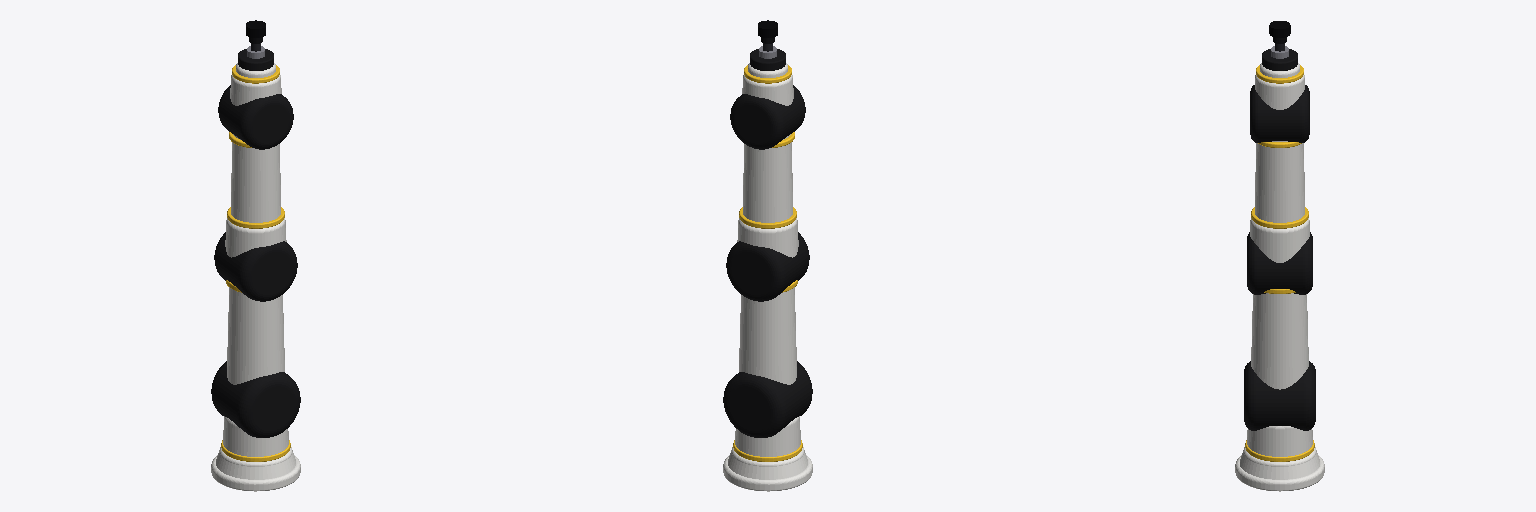
URDF robot description (omniarm6):
<?xml version='1.0' encoding='utf-8'?>
<robot name="omniarm6">

	<link name="link0">
		<inertial>
			<origin rpy="0 0 0" xyz="-0.00090289 -3.524e-05 0.0464554" />
			<mass value="2.002" />
			<inertia ixx="0.00382661" ixy="-1.191e-05" ixz="-3.816e-05" iyy="0.00386108" iyz="-1.6e-06" izz="0.00485705" />
		</inertial>
		<visual>
			<origin xyz="0 0 0" rpy="0 0 0" />
			<geometry>
				<mesh filename="meshes/link0_shell.obj" />
			</geometry>
			<material name="omnisim_shell">
				<color rgba="0.898 0.894 0.882 1.0" />
				<omnisim roughness="0.42" metalness="0.0" />
			</material>
		</visual>
		<visual>
			<origin xyz="0 0 0" rpy="0 0 0" />
			<geometry>
				<mesh filename="meshes/link0_accent.obj" />
			</geometry>
			<material name="omnisim_accent">
				<color rgba="0.965 0.780 0.204 1.0" />
				<omnisim roughness="0.35" metalness="0.2" />
			</material>
		</visual>
<collision>
			<origin xyz="-0.02 0 0.037" rpy="0 0 0" />
			<geometry>
				<cylinder radius="0.12" length="0.075" />
			</geometry>
		</collision>
	</link>

	<link name="link1">
		<inertial>
			<origin rpy="0 0 0" xyz="2.496e-05 0.0196556 0.169149" />
			<mass value="8.256" />
			<inertia ixx="0.0447417" ixy="-5.18e-06" ixz="3.29e-06" iyy="0.038383" iyz="-0.00805897" izz="0.0211142" />
		</inertial>
		<visual>
			<origin xyz="0 0 0" rpy="0 0 0" />
			<geometry>
				<mesh filename="meshes/link1_shell.obj" />
			</geometry>
			<material name="omnisim_shell">
				<color rgba="0.898 0.894 0.882 1.0" />
				<omnisim roughness="0.42" metalness="0.0" />
			</material>
		</visual>
		<visual>
			<origin xyz="0 0 0" rpy="0 0 0" />
			<geometry>
				<mesh filename="meshes/link1_joint.obj" />
			</geometry>
			<material name="omnisim_joint">
				<color rgba="0.129 0.129 0.137 1.0" />
				<omnisim roughness="0.28" metalness="0.85" />
			</material>
		</visual>
<collision>
			<origin xyz="0 0.01 0.17" rpy="0 0 0" />
			<geometry>
				<cylinder radius="0.10" length="0.23" />
			</geometry>
		</collision>
	</link>

	<link name="link2">
		<inertial>
			<origin rpy="0 0 0" xyz="-4.02745e-06 0.113023 0.158393" />
			<mass value="3.9668" />
			<inertia ixx="0.100126" ixy="1.52983e-07" ixz="4.2228e-06" iyy="0.0997161" iyz="0.00215017" izz="0.00646289" />
		</inertial>
		<visual>
			<origin xyz="0 0 0" rpy="0 0 0" />
			<geometry>
				<mesh filename="meshes/link2_shell.obj" />
			</geometry>
			<material name="omnisim_shell">
				<color rgba="0.898 0.894 0.882 1.0" />
				<omnisim roughness="0.42" metalness="0.0" />
			</material>
		</visual>
		<visual>
			<origin xyz="0 0 0" rpy="0 0 0" />
			<geometry>
				<mesh filename="meshes/link2_accent.obj" />
			</geometry>
			<material name="omnisim_accent">
				<color rgba="0.965 0.780 0.204 1.0" />
				<omnisim roughness="0.35" metalness="0.2" />
			</material>
		</visual>
		<visual>
			<origin xyz="0 0 0" rpy="0 0 0" />
			<geometry>
				<mesh filename="meshes/link2_joint.obj" />
			</geometry>
			<material name="omnisim_joint">
				<color rgba="0.129 0.129 0.137 1.0" />
				<omnisim roughness="0.28" metalness="0.85" />
			</material>
		</visual>
<collision>
			<origin xyz="0 0.13 0.185" rpy="0 0 0" />
			<geometry>
				<cylinder radius="0.10" length="0.49" />
			</geometry>
		</collision>
	</link>

	<link name="link3">
		<inertial>
			<origin rpy="0 -0 0" xyz="-3.51946e-05 0.0177216 0.04073" />
			<mass value="5.26105" />
			<inertia ixx="0.0206029" ixy="1.61027e-05" ixz="2.308e-06" iyy="0.016636" iyz="0.00374158" izz="0.010099" />
		</inertial>
		<visual>
			<origin xyz="0 0 0" rpy="0 0 0" />
			<geometry>
				<mesh filename="meshes/link3_shell.obj" />
			</geometry>
			<material name="omnisim_shell">
				<color rgba="0.898 0.894 0.882 1.0" />
				<omnisim roughness="0.42" metalness="0.0" />
			</material>
		</visual>
		<visual>
			<origin xyz="0 0 0" rpy="0 0 0" />
			<geometry>
				<mesh filename="meshes/link3_accent.obj" />
			</geometry>
			<material name="omnisim_accent">
				<color rgba="0.965 0.780 0.204 1.0" />
				<omnisim roughness="0.35" metalness="0.2" />
			</material>
		</visual>
<collision>
			<origin xyz="0 0 0.04" rpy="0 0 0" />
			<geometry>
				<cylinder radius="0.10" length="0.20" />
			</geometry>
		</collision>
	</link>

	<link name="link4">
		<inertial>
			<origin rpy="0 -0 0" xyz="8.08281e-05 0.044542 0.241911" />
			<mass value="2.271" />
			<inertia ixx="0.0342334" ixy="3.365e-06" ixz="-4.11571e-06" iyy="0.0311273" iyz="-0.00818683" izz="0.00522653" />
		</inertial>
		<visual>
			<origin xyz="0 0 0" rpy="0 0 0" />
			<geometry>
				<mesh filename="meshes/link4_shell.obj" />
			</geometry>
			<material name="omnisim_shell">
				<color rgba="0.898 0.894 0.882 1.0" />
				<omnisim roughness="0.42" metalness="0.0" />
			</material>
		</visual>
		<visual>
			<origin xyz="0 0 0" rpy="0 0 0" />
			<geometry>
				<mesh filename="meshes/link4_accent.obj" />
			</geometry>
			<material name="omnisim_accent">
				<color rgba="0.965 0.780 0.204 1.0" />
				<omnisim roughness="0.35" metalness="0.2" />
			</material>
		</visual>
		<visual>
			<origin xyz="0 0 0" rpy="0 0 0" />
			<geometry>
				<mesh filename="meshes/link4_joint.obj" />
			</geometry>
			<material name="omnisim_joint">
				<color rgba="0.129 0.129 0.137 1.0" />
				<omnisim roughness="0.28" metalness="0.85" />
			</material>
		</visual>
<collision>
			<origin xyz="0 0.035 0.29" rpy="0 0 0" />
			<geometry>
				<cylinder radius="0.10" length="0.35" />
			</geometry>
		</collision>
	</link>

	<link name="link5">
		<inertial>
			<origin rpy="0 -0 0" xyz="4.18387e-05 0.0147744 0.0354" />
			<mass value="2.54629" />
			<inertia ixx="0.00855547" ixy="4.97317e-06" ixz="6.07841e-06" iyy="0.00582159" iyz="0.00129227" izz="0.00358312" />
		</inertial>
		<visual>
			<origin xyz="0 0 0" rpy="0 0 0" />
			<geometry>
				<mesh filename="meshes/link5_shell.obj" />
			</geometry>
			<material name="omnisim_shell">
				<color rgba="0.898 0.894 0.882 1.0" />
				<omnisim roughness="0.42" metalness="0.0" />
			</material>
		</visual>
		<visual>
			<origin xyz="0 0 0" rpy="0 0 0" />
			<geometry>
				<mesh filename="meshes/link5_accent.obj" />
			</geometry>
			<material name="omnisim_accent">
				<color rgba="0.965 0.780 0.204 1.0" />
				<omnisim roughness="0.35" metalness="0.2" />
			</material>
		</visual>
<collision>
			<origin xyz="0 0 0.04" rpy="0 0 0" />
			<geometry>
				<cylinder radius="0.10" length="0.18" />
			</geometry>
		</collision>
	</link>

	<link name="link6">
		<inertial>
			<origin rpy="0 -0 0" xyz="-2.51647e-06 0.000204679 0.12067" />
			<mass value="0.577639" />
			<inertia ixx="0.00034085" ixy="1.01877e-06" ixz="-1.4781e-07" iyy="0.00038675" iyz="-1.06647e-06" izz="0.000536577" />
		</inertial>
		<visual>
			<origin xyz="0 0 0" rpy="0 0 0" />
			<geometry>
				<mesh filename="meshes/link6_shell.obj" />
			</geometry>
			<material name="omnisim_shell">
				<color rgba="0.898 0.894 0.882 1.0" />
				<omnisim roughness="0.42" metalness="0.0" />
			</material>
		</visual>
		<visual>
			<origin xyz="0 0 0" rpy="0 0 0" />
			<geometry>
				<mesh filename="meshes/link6_joint.obj" />
			</geometry>
			<material name="omnisim_joint">
				<color rgba="0.129 0.129 0.137 1.0" />
				<omnisim roughness="0.28" metalness="0.85" />
			</material>
		</visual>
<collision>
			<origin xyz="0 0 0.083" rpy="0 0 0" />
			<geometry>
				<cylinder radius="0.05" length="0.165" />
			</geometry>
		</collision>
		<!-- Suction-tool ADAPTER+NECK collider (link6 z 0.1655..0.2105, i.e. the
		     first 45 mm past the flange). It lives HERE and not on the
		     suction_cup link because colliders on fixed-child links are merged
		     visually but never registered by the physics bridges (verified
		     inert under both Newton and ODE, 2026-07-12); link6's own
		     collisions demonstrably work. The rubber LIP (z 0.226..0.2505)
		     stays collision-free on purpose: the vacuum pick welds the part
		     flush against the lip, and a lip collider would fight that weld
		     on every pick. -->
		<collision>
			<origin xyz="0 0 0.188" rpy="0 0 0" />
			<geometry>
				<cylinder radius="0.024" length="0.045" />
			</geometry>
		</collision>
	</link>

	<link name="flange">
	</link>

	<link name="gripper_tcp">
	</link>


	<joint name="joint1" type="revolute">
		<limit lower="-3.14159" upper="3.14159" effort="194" velocity="3.1415" />
		<origin rpy="0 0 0" xyz="0 0 0" />
		<parent link="link0" />
		<child link="link1" />
		<axis xyz="0 0 1" />
	</joint>

	<joint name="joint2" type="revolute">
		<limit lower="-3.14159" upper="3.14159" effort="194" velocity="3.1415" />
		<origin rpy="0 0 0" xyz="0 0 0.22" />
		<parent link="link1" />
		<child link="link2" />
		<axis xyz="0 1 0" />
	</joint>

	<joint name="joint3" type="revolute">
		<limit lower="-2.61799" upper="2.61799" effort="102" velocity="3.1415" />
		<origin rpy="0 0 0" xyz="0 0 0.38" />
		<parent link="link2" />
		<child link="link3" />
		<axis xyz="0 1 0" />
	</joint>

	<joint name="joint4" type="revolute">
		<limit lower="-6.28319" upper="6.28319" effort="102" velocity="3.1415" />
		<origin rpy="0 0 0" xyz="0 0 0" />
		<parent link="link3" />
		<child link="link4" />
		<axis xyz="0 0 1" />
	</joint>

	<joint name="joint5" type="revolute">
		<limit lower="-3.14159" upper="3.14159" effort="34" velocity="3.4906" />
		<origin rpy="0 0 0" xyz="0 0 0.42" />
		<parent link="link4" />
		<child link="link5" />
		<axis xyz="0 1 0" />
	</joint>

	<joint name="joint6" type="revolute">
		<limit lower="-6.28319" upper="6.28319" effort="34" velocity="3.4906" />
		<origin rpy="0 0 0" xyz="0 0 0" />
		<parent link="link5" />
		<child link="link6" />
		<axis xyz="0 0 1" />
	</joint>

	<joint name="link6flange" type="fixed">
		<origin rpy="0 0 0" xyz="0 0 0.1655" />
		<parent link="link6" />
		<child link="flange" />
	</joint>

	<joint name="flangegripper_tcp" type="fixed">
		<origin rpy="0 0 0" xyz="0 0 0.0" />
		<parent link="flange" />
		<child link="gripper_tcp" />
	</joint>


	<!-- ===== Suction (vacuum) cup tool: NO fingers =====
	     A flared rubber cup on the flange. Mounted at link6 + 0.1655 (the flange),
	     it extends +z so its LIP sits at local z=0.085 = tool point OZ=0.25 from
	     link6. The metal adapter + neck carry a small collider (local z 0..0.045)
	     so the tool body cannot ghost through bin walls; the rubber LIP
	     (z 0.06..0.085) stays collision-free ON PURPOSE: the pick is a vacuum
	     weld (controller), and a lip collider would fight the part welded flush
	     against it on every pick. -->
	<link name="suction_cup">
		<visual>
			<origin xyz="0 0 0.008" rpy="0 0 0"/>
			<geometry><cylinder radius="0.024" length="0.016"/></geometry>
			<material name="cup_metal"><color rgba="0.55 0.55 0.58 1"/></material>
		</visual>
		<visual>
			<origin xyz="0 0 0.028" rpy="0 0 0"/>
			<geometry><cylinder radius="0.014" length="0.024"/></geometry>
			<material name="cup_neck"><color rgba="0.18 0.18 0.20 1"/></material>
		</visual>
		<visual>
			<origin xyz="0 0 0.050" rpy="0 0 0"/>
			<geometry><cylinder radius="0.019" length="0.020"/></geometry>
			<material name="cup_rubber"><color rgba="0.10 0.10 0.11 1"/></material>
		</visual>
		<visual>
			<origin xyz="0 0 0.0725" rpy="0 0 0"/>
			<geometry><cylinder radius="0.027" length="0.025"/></geometry>
			<material name="cup_lip"><color rgba="0.07 0.07 0.08 1"/></material>
		</visual>
		<inertial>
			<origin xyz="0 0 0.04" rpy="0 0 0"/>
			<mass value="0.05"/>
			<inertia ixx="2e-5" ixy="0" ixz="0" iyy="2e-5" iyz="0" izz="2e-5"/>
		</inertial>
	</link>
	<joint name="link6_suction_cup" type="fixed">
		<origin rpy="0 0 0" xyz="0 0 0.1655"/>
		<parent link="link6"/>
		<child link="suction_cup"/>
	</joint>

</robot>

--- Facts derived from the render (not from the file) ---
The picture shows the robot from 3 angles, left to right: view 1: azimuth 30°, elevation 25°; view 2: azimuth 150°, elevation 25°; view 3: azimuth 270°, elevation 25°; orthographic projection.
Model omniarm6 with 10 links and 9 joints (6 revolute, 3 fixed), rooted at link0, posed every joint at zero.
Visible links, largest first — view 1: link2, link4, link1, link0, link3, link5, link6, suction_cup; view 2: link2, link4, link1, link0, link3, link5, link6, suction_cup; view 3: link2, link4, link1, link0, link3, link5, link6, suction_cup.
Link boxes in pixels (bbox=[...]): link2: bbox=[214, 232, 297, 384]; link4: bbox=[218, 85, 293, 222]; link1: bbox=[211, 361, 300, 456]; link0: bbox=[211, 440, 300, 491]; link3: bbox=[225, 207, 286, 257]; link5: bbox=[230, 65, 281, 105]; link6: bbox=[236, 49, 275, 77]; suction_cup: bbox=[246, 20, 265, 58]; link2: bbox=[726, 232, 809, 384]; link4: bbox=[730, 85, 805, 222]; link1: bbox=[723, 361, 812, 456]; link0: bbox=[723, 440, 812, 491]; link3: bbox=[737, 207, 798, 257]; link5: bbox=[742, 65, 793, 105]; link6: bbox=[748, 49, 787, 77]; suction_cup: bbox=[758, 20, 777, 58]; link2: bbox=[1247, 232, 1312, 389]; link4: bbox=[1250, 85, 1309, 222]; link1: bbox=[1244, 361, 1315, 456]; link0: bbox=[1235, 440, 1324, 491]; link3: bbox=[1250, 207, 1309, 262]; link5: bbox=[1255, 65, 1304, 109]; link6: bbox=[1260, 49, 1299, 77]; suction_cup: bbox=[1269, 21, 1290, 58].
Size in the robot's own frame: 0.23 by 0.23 by 1.27 metres.
16 mesh visuals loaded from 16 distinct referenced files (16 OBJ).
